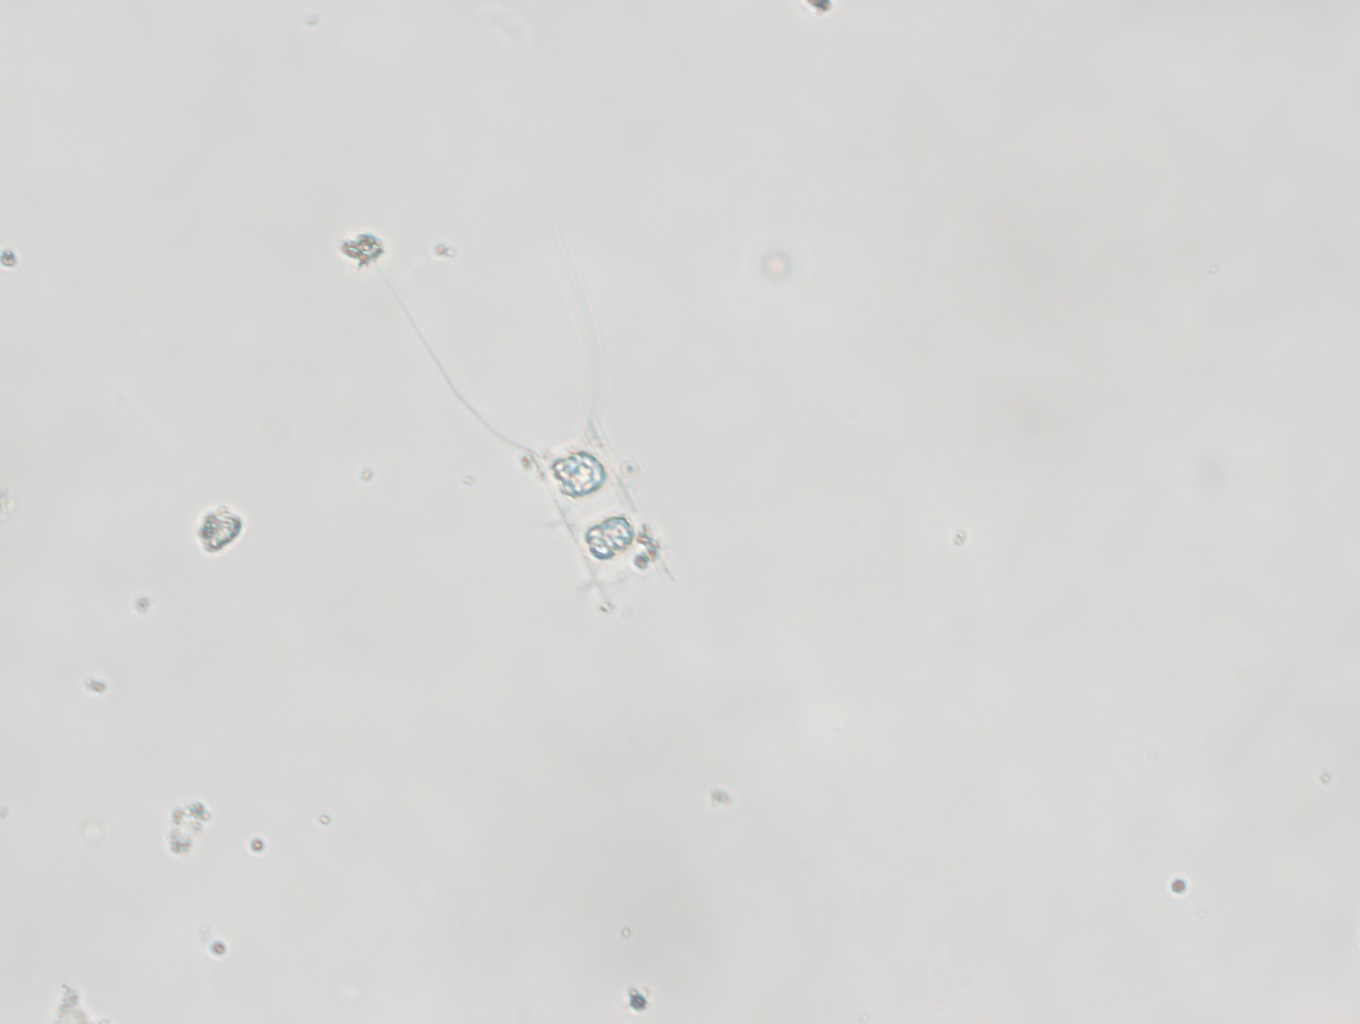chaetoceros: (363, 262, 700, 644)
